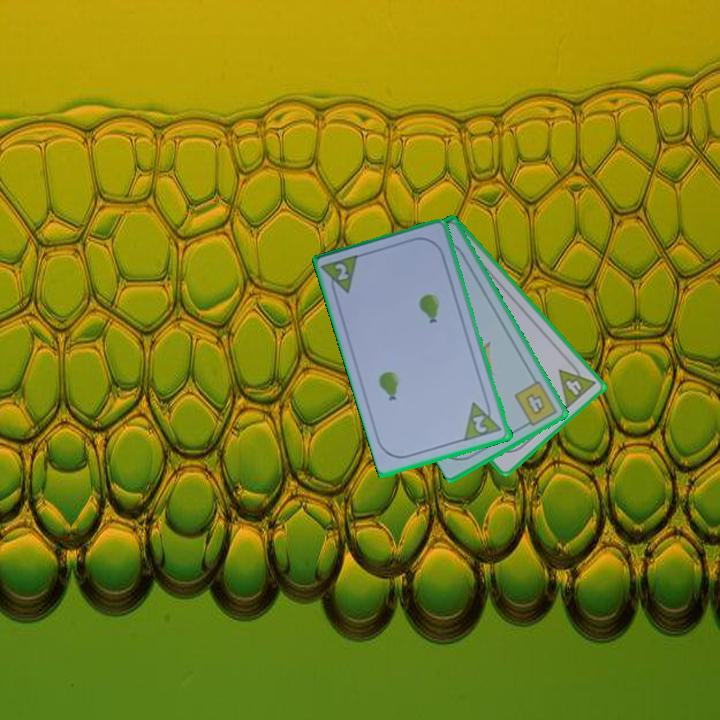2p: (319, 251, 363, 301), (461, 396, 505, 444)
4b: (511, 377, 560, 431)
4p: (555, 357, 598, 412)
